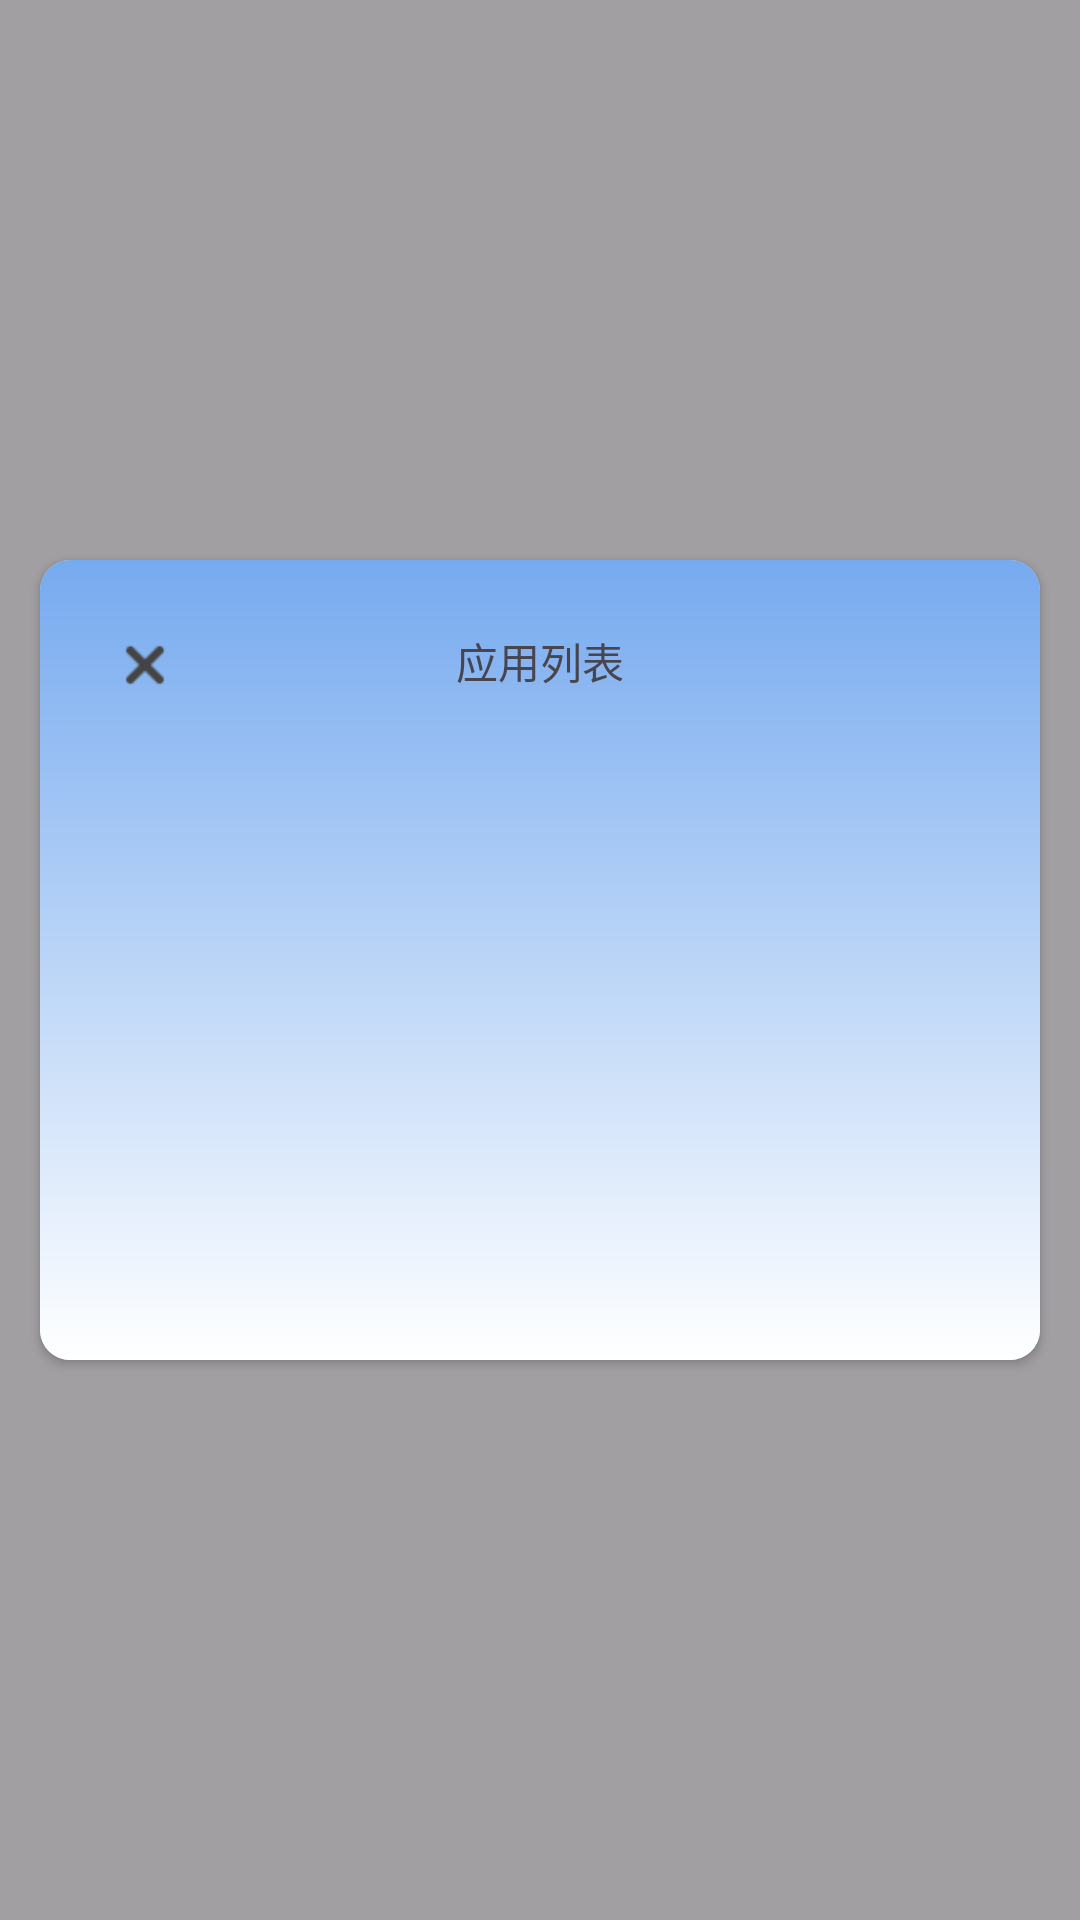

Named icons in this screenshot (1080px×1920px) and their centers, point (x, y):
back all app: point (145, 665)
